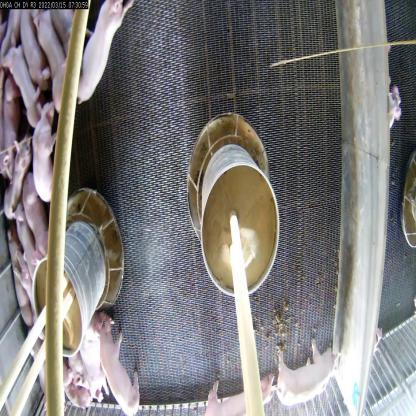Pig: (72, 0, 140, 115), (90, 314, 146, 416), (272, 339, 343, 407), (2, 37, 42, 132), (34, 8, 68, 117), (27, 99, 59, 210), (14, 3, 51, 94), (204, 372, 275, 416), (0, 131, 33, 223), (10, 206, 44, 293), (75, 337, 113, 413), (23, 169, 52, 265), (11, 243, 38, 322)
